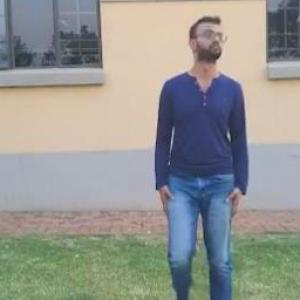follow: (149, 0, 259, 299)
